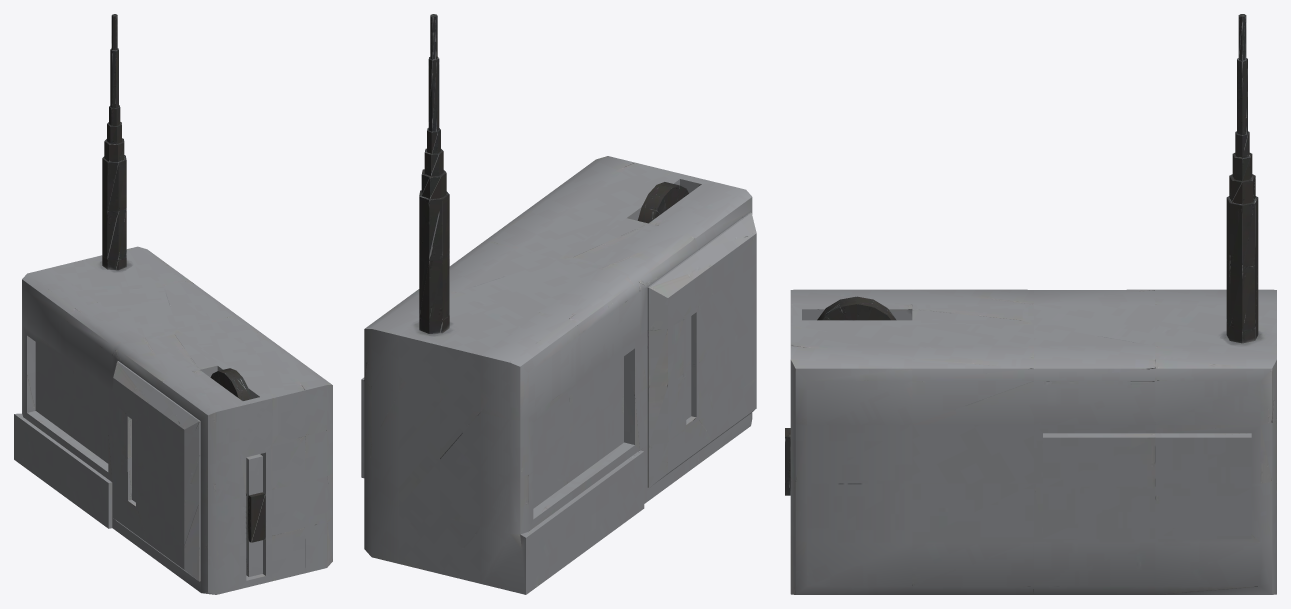
File: Radio.glb
3 views of the same model, side by side, from view 1: azimuth 30°, elevation 25°; view 2: azimuth 150°, elevation 25°; view 3: azimuth 270°, elevation 25° (orthographic). The views are drawn at different scales.
Parts seen in each view (by area): view 1: Cube.001; view 2: Cube.001; view 3: Cube.001.
Part boxes in pixels (x1,y1,x2,y2): Cube.001: (14, 14, 332, 594); Cube.001: (361, 14, 756, 594); Cube.001: (785, 14, 1276, 594).
Bounding box in the file's own units: 1.18 × 3.28 × 2.63.
1 material, 1 textured.
